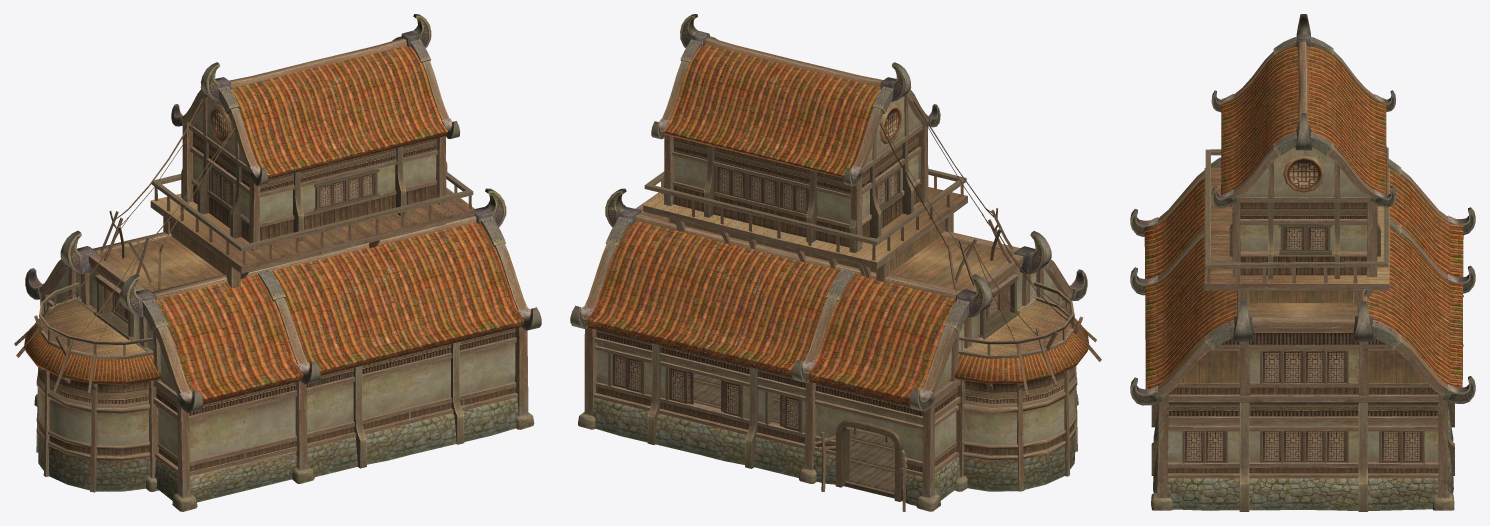
File: Building_002_05.fbx
The picture shows the model from 3 angles, left to right: view 1: azimuth 30°, elevation 25°; view 2: azimuth 150°, elevation 25°; view 3: azimuth 270°, elevation 25°; orthographic projection. The views are drawn at different scales.
Visible parts, largest first — view 1: Building_002_05; view 2: Building_002_05, Building_002_05_in; view 3: Building_002_05.
Boxes of the visible parts, left/top/right/bottom form: Building_002_05: left=14, top=14, right=541, bottom=511; Building_002_05: left=570, top=14, right=1101, bottom=511; Building_002_05_in: left=694, top=373, right=894, bottom=498; Building_002_05: left=1130, top=14, right=1475, bottom=511.
Size of the model in its own units: 3419 by 2756 by 2270.
2 materials, 2 textured.
